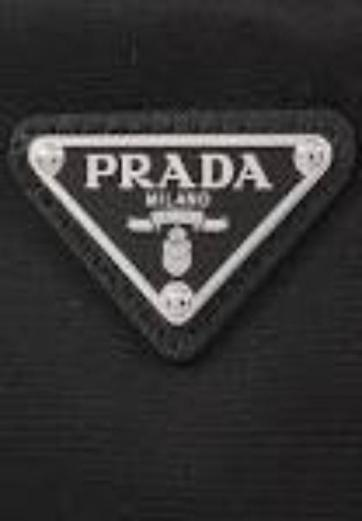PRADA: (81, 139, 274, 197)
